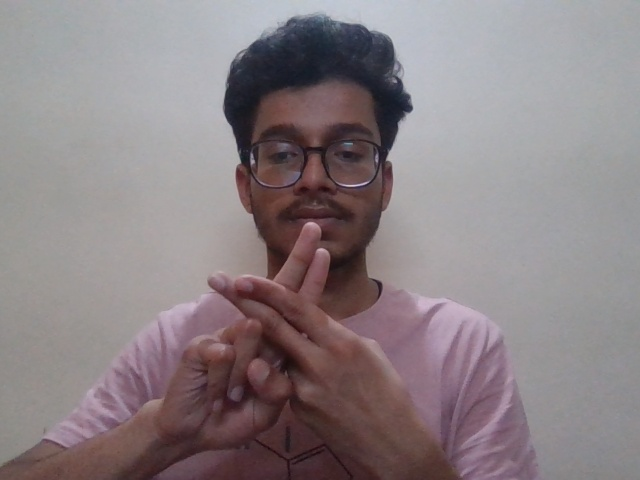disabled: (133, 218, 441, 461)
